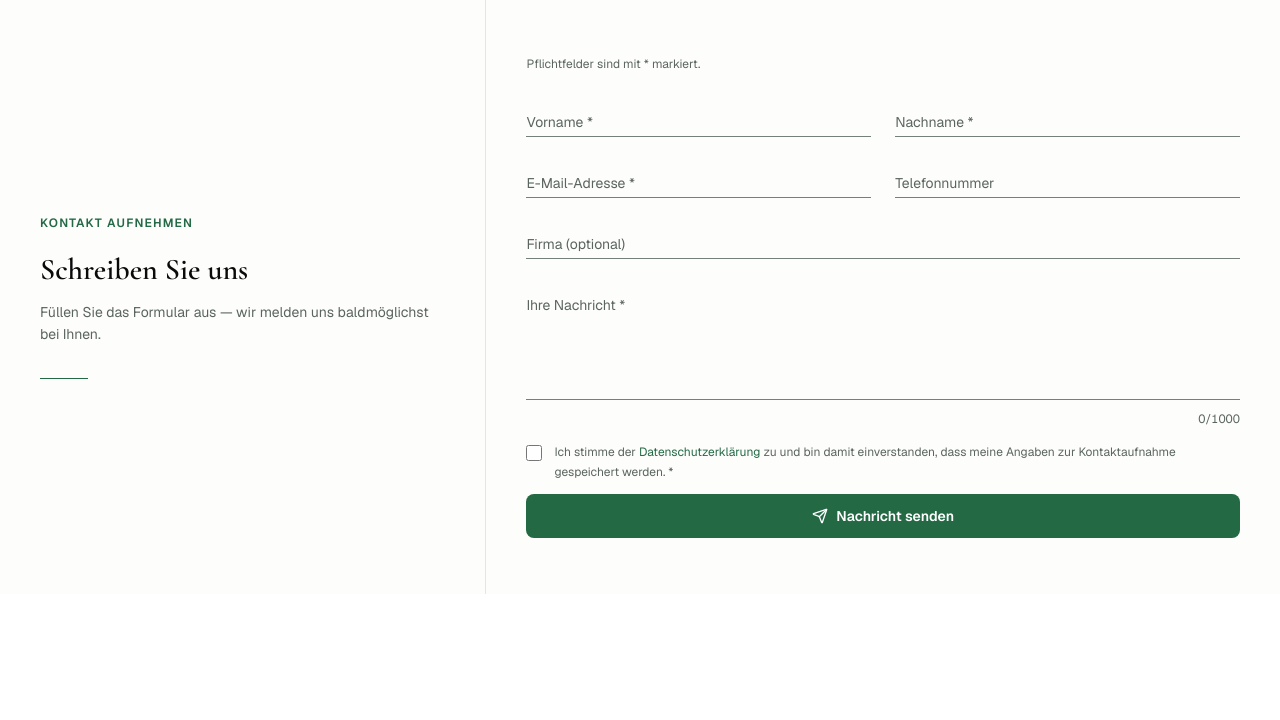
ContactForm › shows client-side validation errors when submitting empty form
Click the button "Nachricht senden": x=883, y=516 [526,494,1240,538]
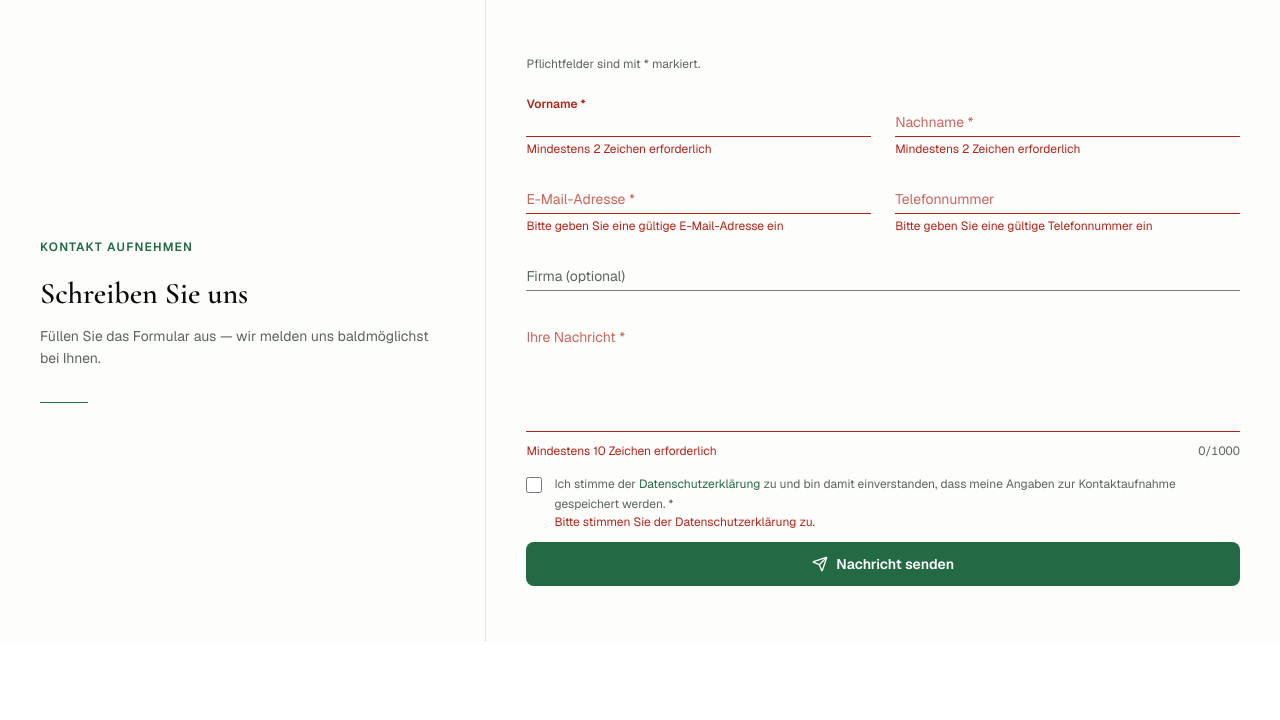
Check: the text "Mindestens 2 Zeichen erforderlich" below "Vorname" is shown, box [526,141,712,157]
